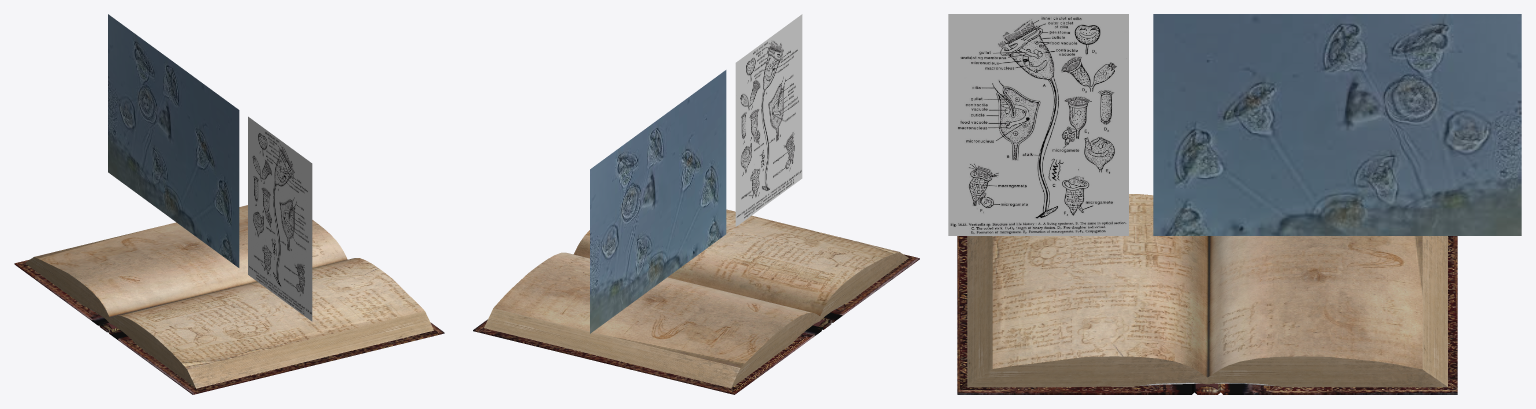
The model's file is vorticella.glb.
3 renders of one model, left to right at view 1: azimuth 30°, elevation 25°; view 2: azimuth 150°, elevation 25°; view 3: azimuth 270°, elevation 25°, orthographic. The views are drawn at different scales.
Parts seen in each view (by area): view 1: polySurface23, vorticella_overview, vorticella_structure, polySurface21; view 2: polySurface23, vorticella_overview, vorticella_structure, polySurface21; view 3: vorticella_overview, polySurface23, vorticella_structure, polySurface21.
Part boxes in pixels (left/top/right/bottom): polySurface23: left=25, top=205, right=433, bottom=388; vorticella_overview: left=108, top=14, right=239, bottom=267; vorticella_structure: left=248, top=116, right=312, bottom=321; polySurface21: left=14, top=260, right=444, bottom=394; polySurface23: left=484, top=209, right=908, bottom=388; vorticella_overview: left=590, top=70, right=726, bottom=333; vorticella_structure: left=735, top=14, right=802, bottom=226; polySurface21: left=473, top=254, right=919, bottom=394; vorticella_overview: left=1153, top=14, right=1521, bottom=235; polySurface23: left=967, top=194, right=1447, bottom=387; vorticella_structure: left=948, top=14, right=1128, bottom=235; polySurface21: left=957, top=236, right=1457, bottom=394.
Bounding box in the file's own units: 2.82 × 2.2 × 3.96.
Materials: 7 (5 with a texture image).
